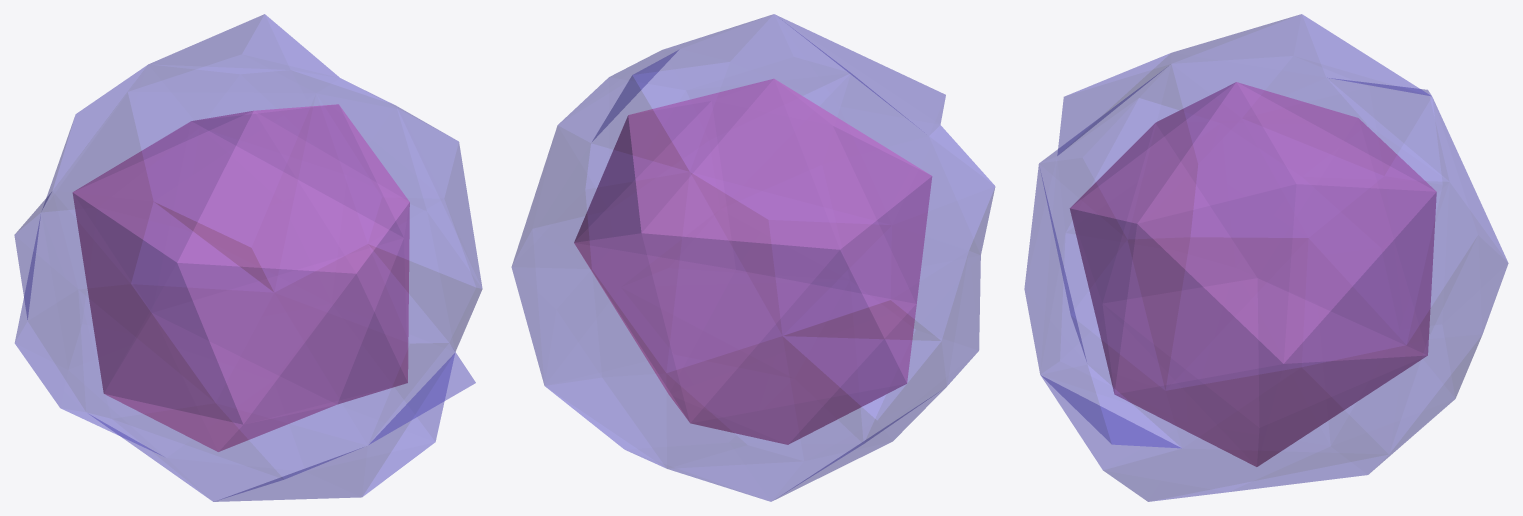
File: gas_01.glb
3 renders of one model, left to right at view 1: azimuth 30°, elevation 25°; view 2: azimuth 150°, elevation 25°; view 3: azimuth 270°, elevation 25°, orthographic. The views are drawn at different scales.
Parts seen in each view (by area): view 1: gas_planet8; view 2: gas_planet8; view 3: gas_planet8.
Part boxes in pixels (left/top/right/bottom): gas_planet8: left=14, top=14, right=482, bottom=501; gas_planet8: left=511, top=14, right=995, bottom=501; gas_planet8: left=1024, top=14, right=1508, bottom=501.
Bounding box in the file's own units: 2.15 × 2.07 × 2.16.
